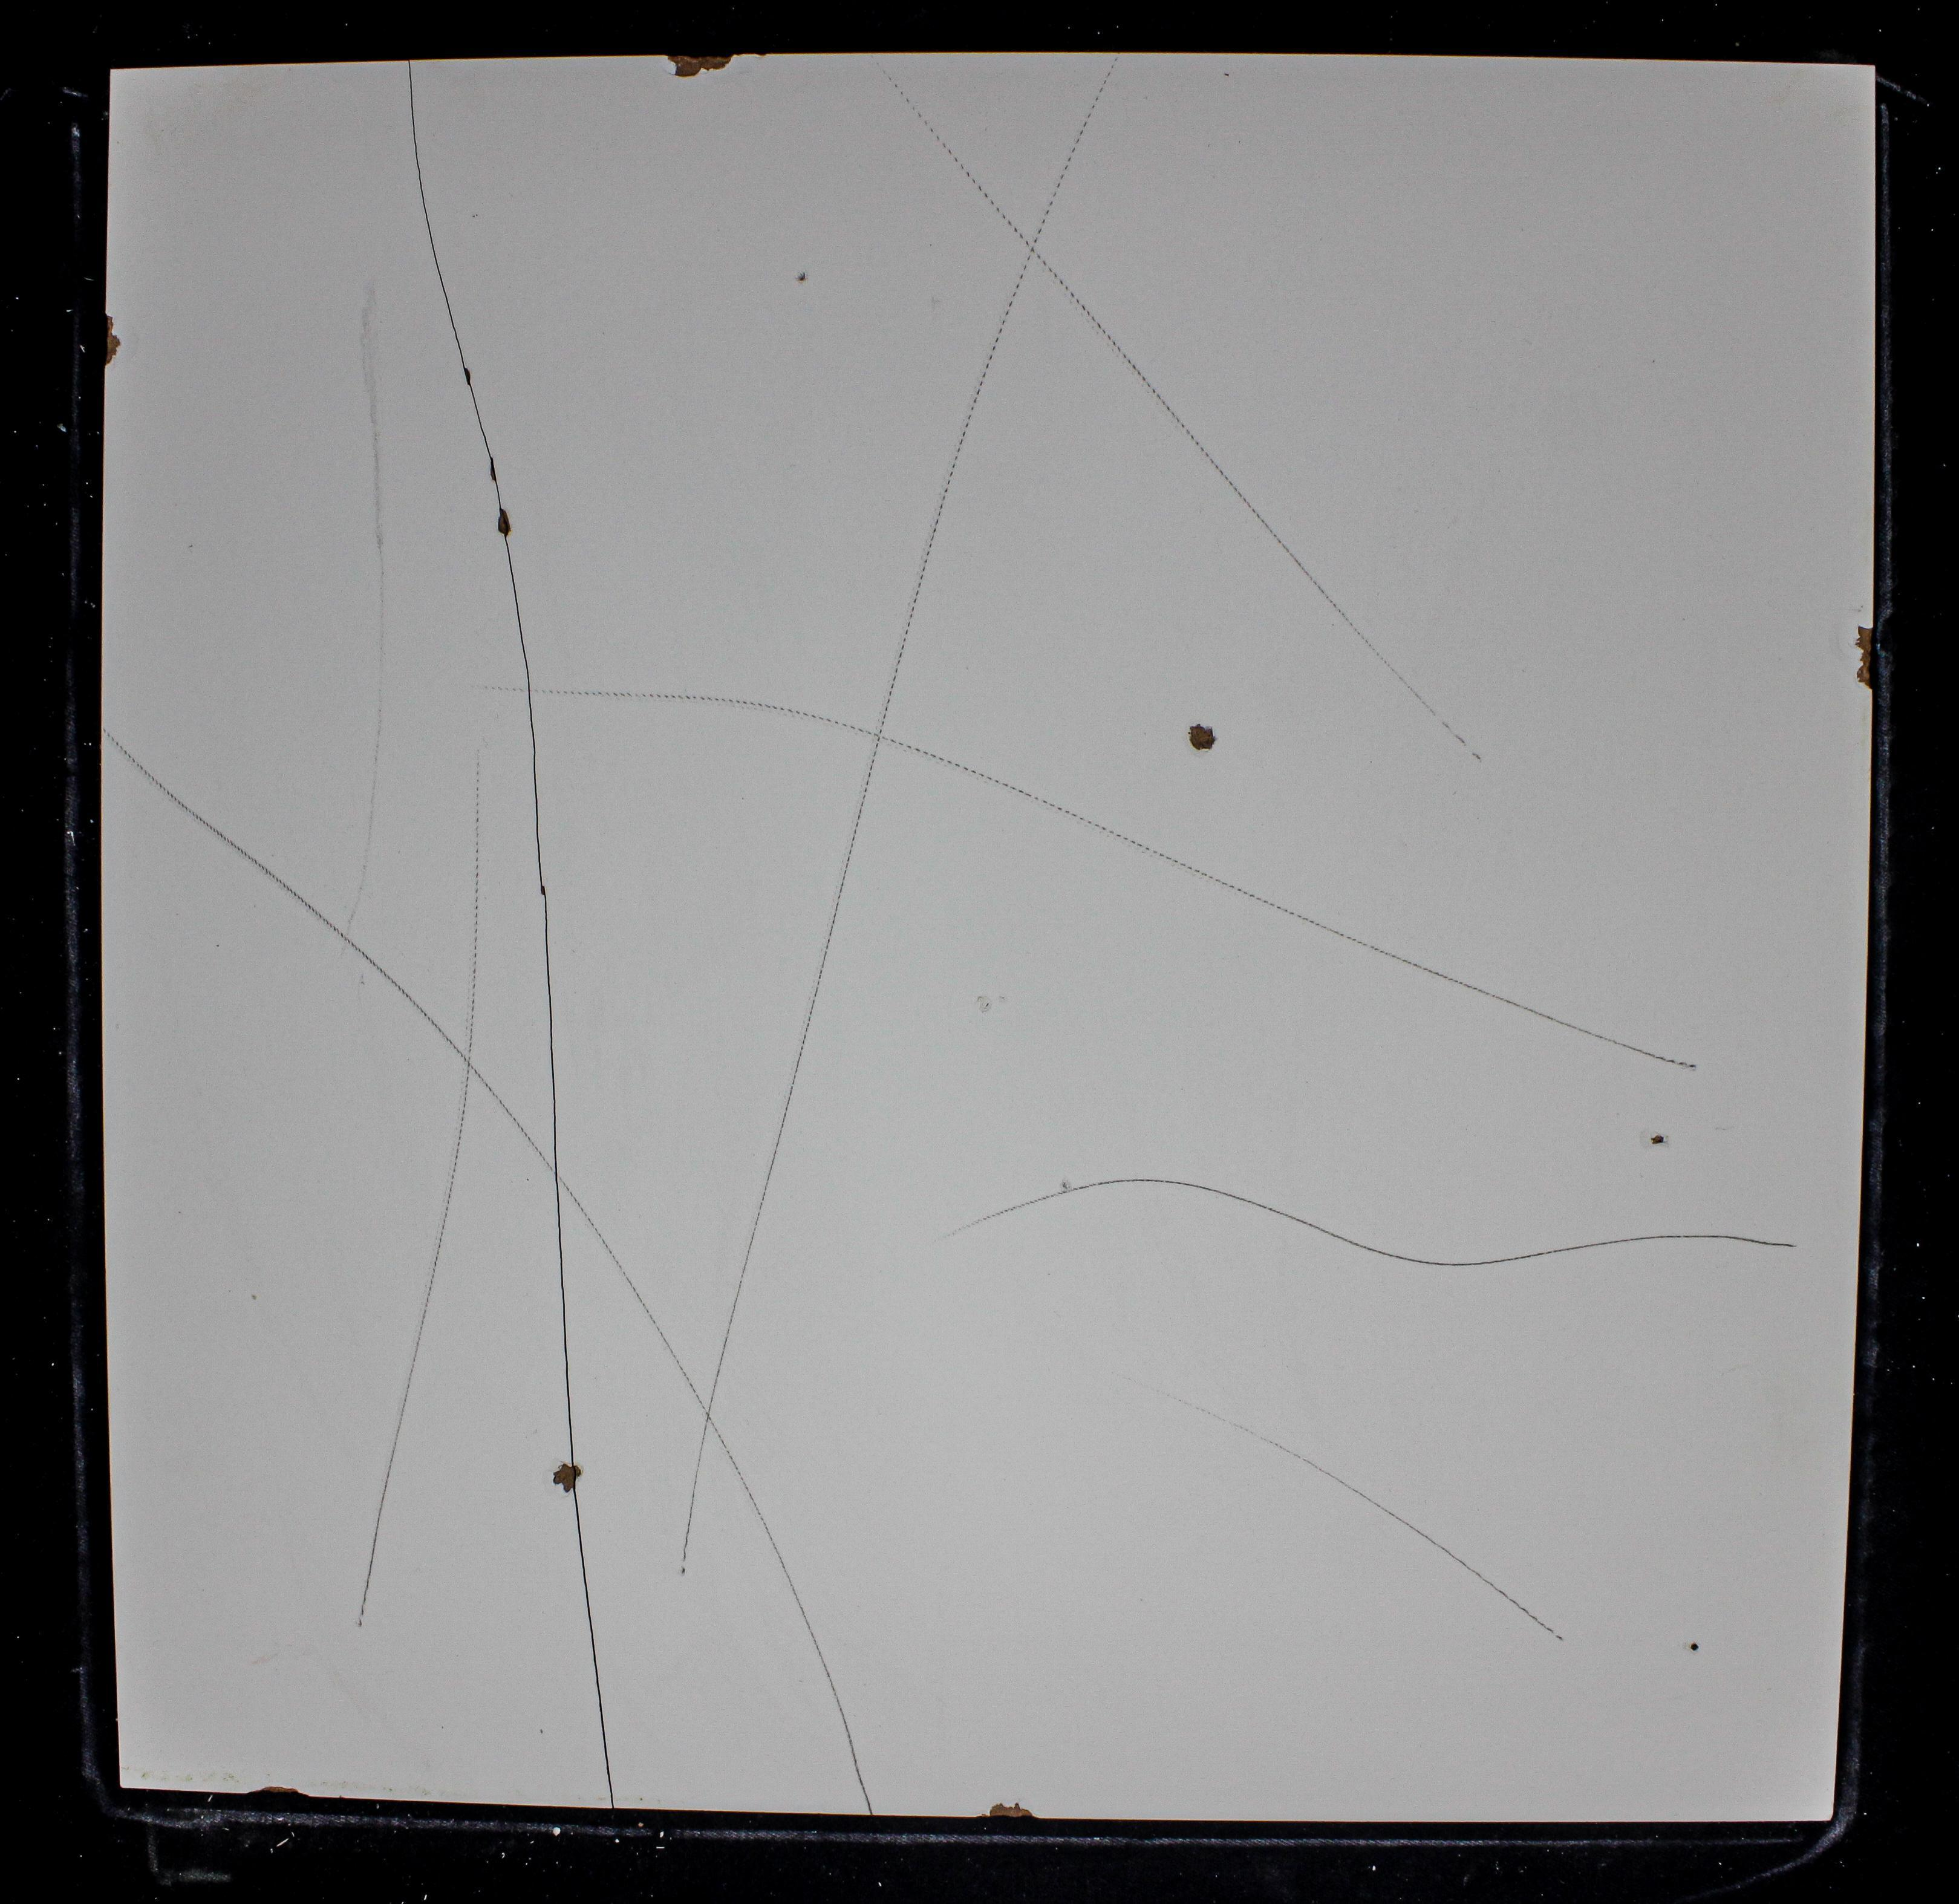edge-chipping: (665, 51, 742, 79), (1854, 624, 1877, 691), (101, 313, 122, 369), (990, 1801, 1037, 1820), (245, 1785, 310, 1797)
hole: (554, 1462, 586, 1493), (1186, 722, 1217, 752), (497, 507, 514, 539), (1686, 1638, 1702, 1656), (794, 269, 810, 287), (1649, 1133, 1667, 1145), (464, 367, 472, 388)
line: (889, 738, 1107, 829), (1275, 906, 1483, 990), (408, 61, 464, 365), (1488, 993, 1698, 1072), (1424, 1533, 1565, 1642), (1149, 1178, 1357, 1247), (350, 941, 465, 1060), (572, 1497, 614, 1806), (107, 731, 226, 839), (1034, 73, 1109, 241), (1109, 829, 1275, 904), (1279, 1448, 1420, 1535), (931, 126, 1030, 247), (227, 841, 345, 939), (750, 1495, 820, 1647), (1119, 348, 1205, 455), (754, 1053, 805, 1233), (820, 1650, 875, 1810), (1210, 460, 1291, 559), (710, 1236, 756, 1411), (701, 692, 876, 736), (929, 400, 974, 565), (360, 1432, 401, 1617), (1037, 252, 1116, 346), (432, 1070, 467, 1280), (974, 266, 1027, 399), (883, 570, 925, 734), (805, 885, 845, 1049), (582, 1212, 647, 1313), (1357, 1241, 1569, 1271), (993, 1177, 1144, 1215), (399, 1280, 434, 1428), (651, 1315, 705, 1409), (845, 740, 880, 881), (1572, 1229, 1800, 1250), (556, 1203, 574, 1456), (504, 542, 532, 691), (682, 1420, 708, 1574), (1296, 559, 1352, 624), (544, 900, 558, 1154), (471, 393, 500, 504), (528, 694, 544, 893), (712, 1416, 750, 1493)
